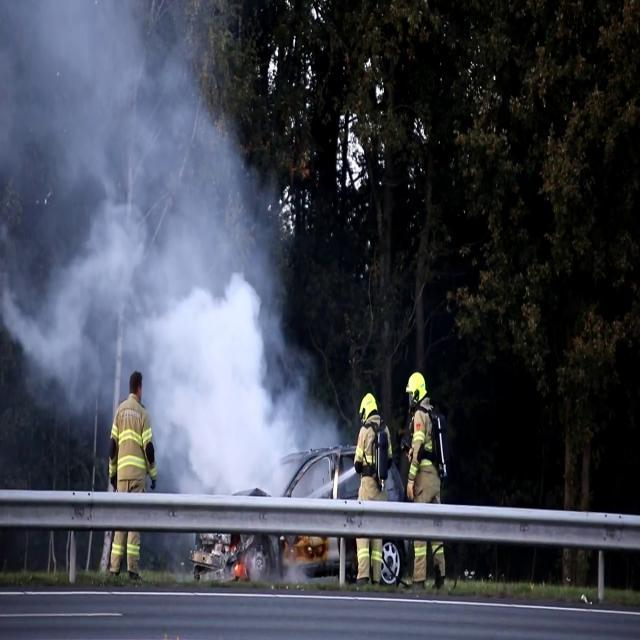Smoke: (0, 1, 324, 488)
